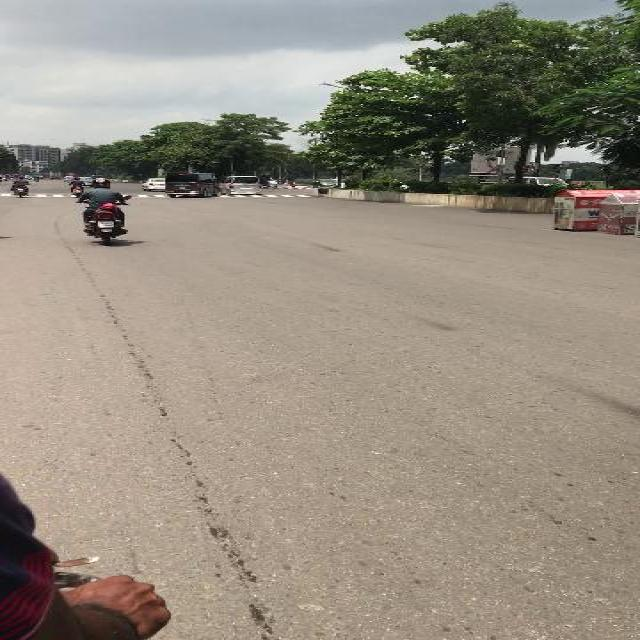bus: (47, 170, 60, 180)
car: (138, 178, 164, 190), (309, 178, 335, 188)
minivan: (218, 175, 262, 195)
motorbike: (74, 194, 132, 244), (10, 176, 29, 198), (66, 176, 82, 198)
van: (162, 171, 218, 197)
